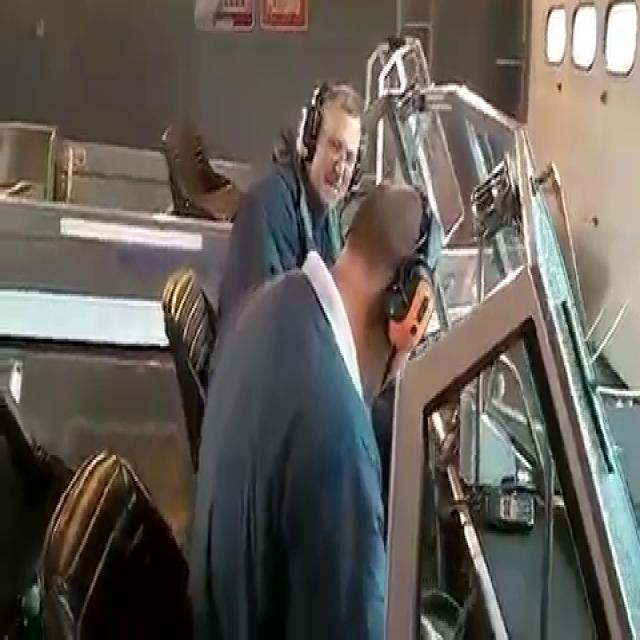earmuff: (380, 252, 438, 361), (294, 100, 322, 170)
